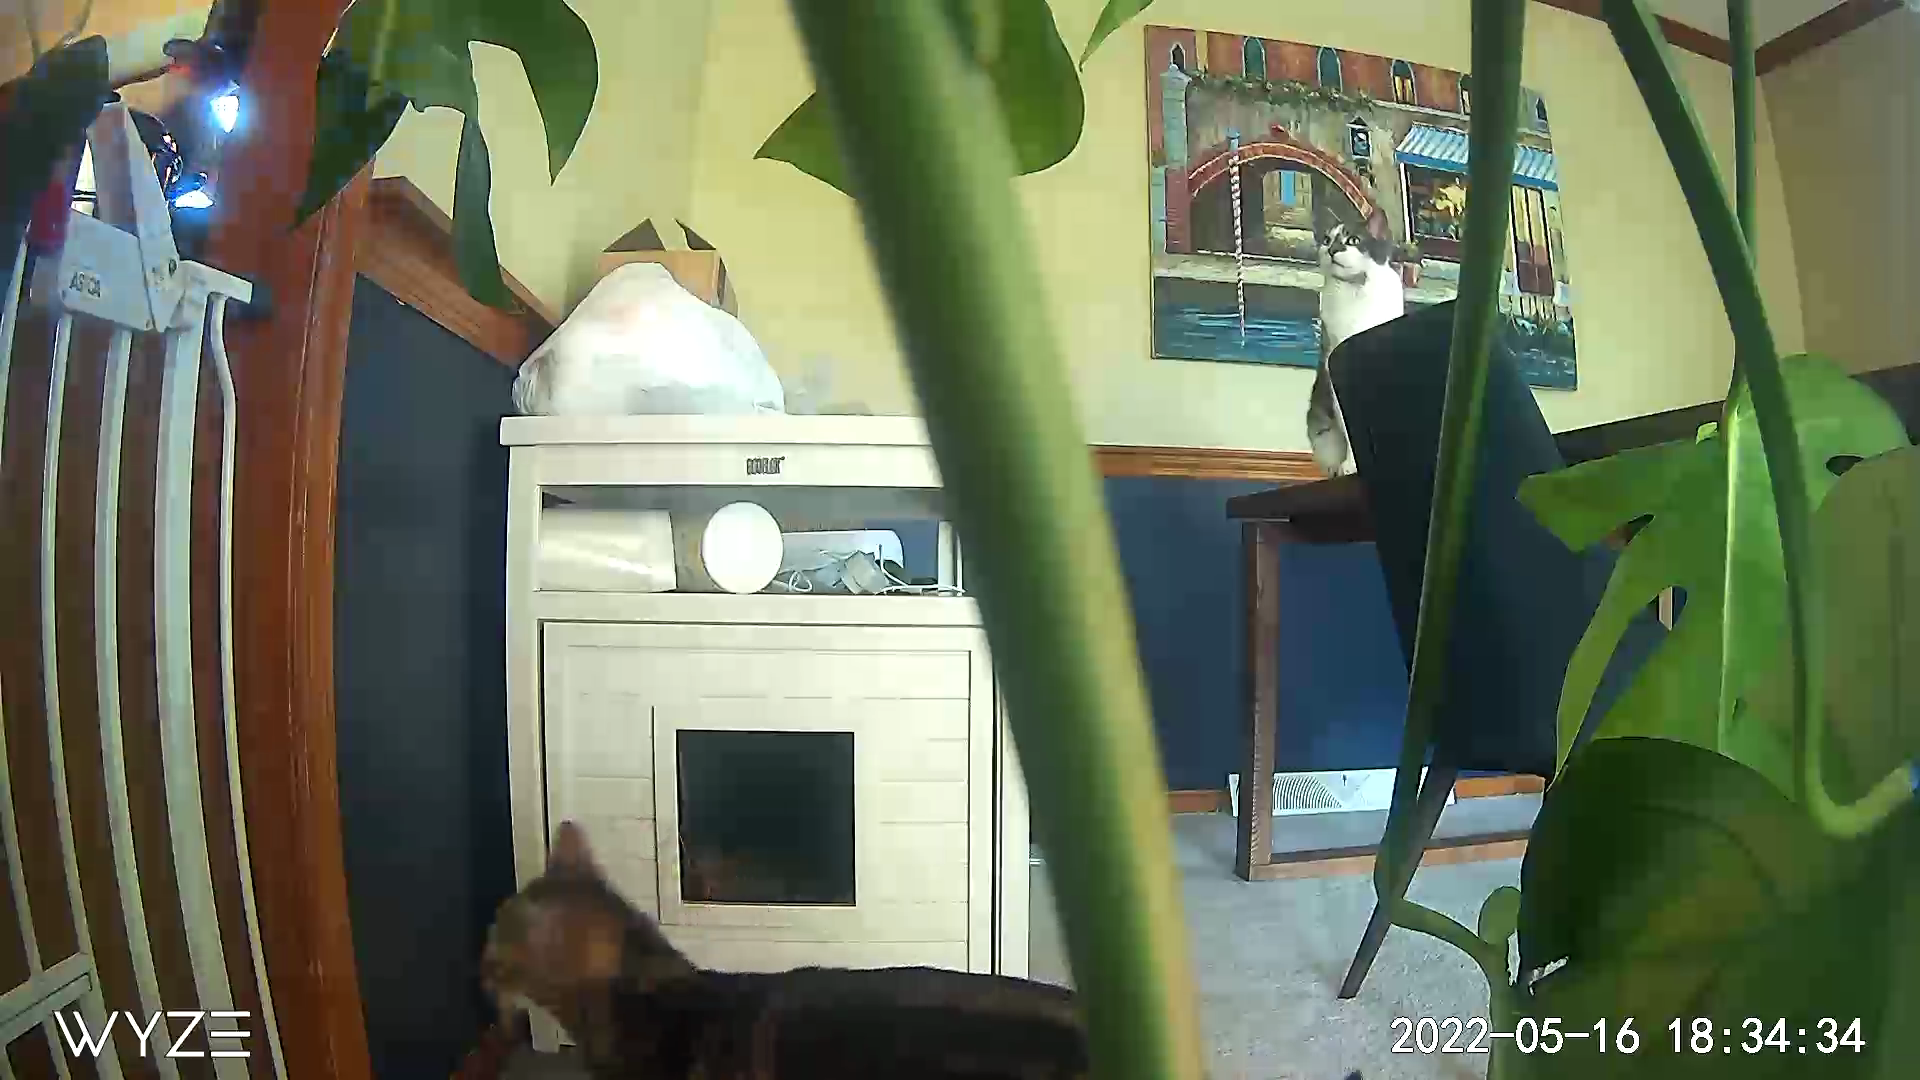sparky: (440, 807, 887, 1080)
